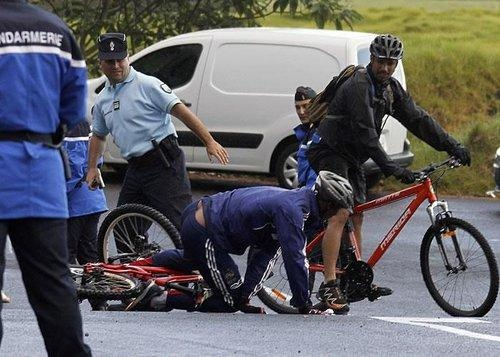falling: (136, 169, 359, 311)
